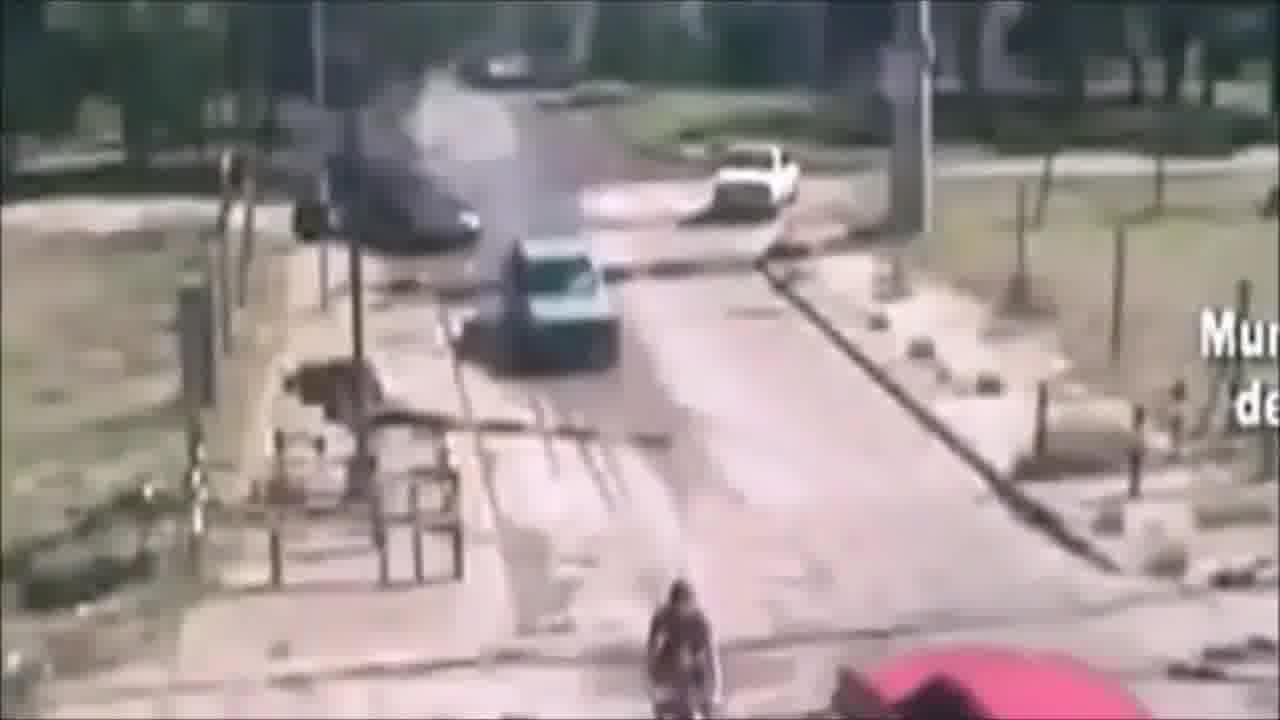crossing railway track: (786, 589, 1179, 720), (589, 528, 785, 720)
